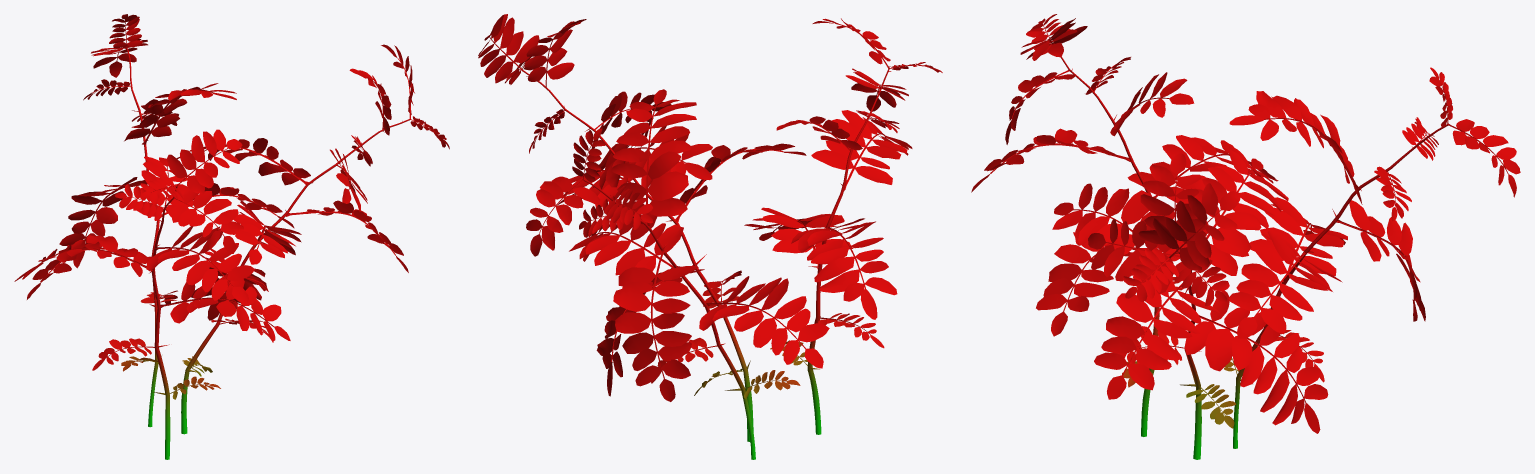
Rendered from Black Locust_LOD0_Var4.fbx.
The picture shows the model from 3 angles, left to right: view 1: azimuth 30°, elevation 25°; view 2: azimuth 150°, elevation 25°; view 3: azimuth 270°, elevation 25°; orthographic projection. The views are drawn at different scales.
Visible parts, largest first — view 1: _gabo_Var4_LOD0; view 2: _gabo_Var4_LOD0; view 3: _gabo_Var4_LOD0.
Part boxes in pixels (x1,y1,x2,y2): _gabo_Var4_LOD0: [14, 14, 449, 459]; _gabo_Var4_LOD0: [478, 14, 942, 459]; _gabo_Var4_LOD0: [971, 14, 1520, 459].
Bounding box in the file's own units: 48.67 × 41.96 × 49.62.
